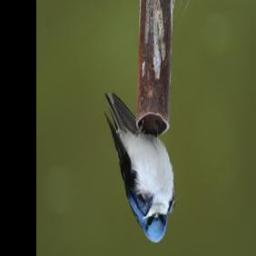Swallow: (103, 91, 176, 245)
